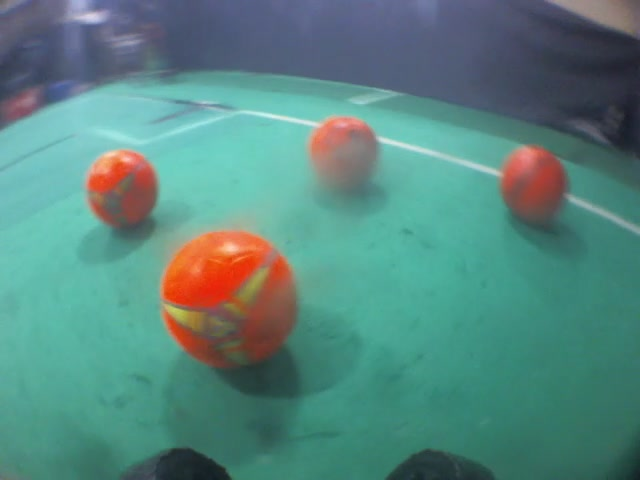ball: (156, 226, 301, 381), (494, 139, 579, 228), (301, 112, 385, 198), (82, 147, 162, 232)
